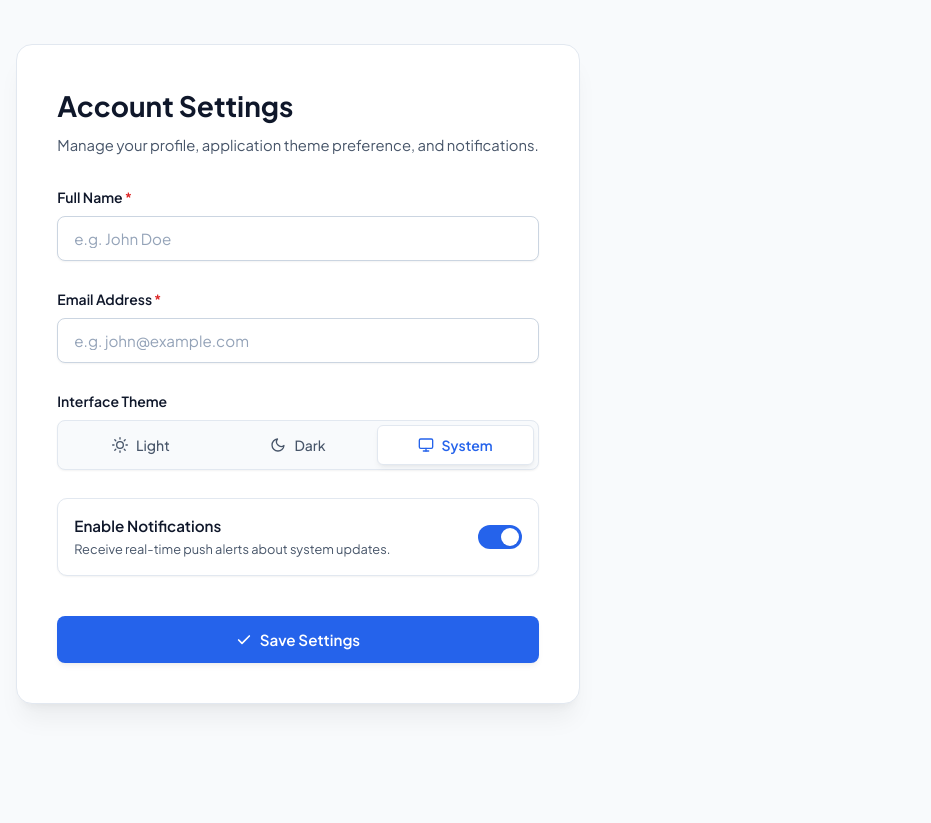
SettingsForm Component › displays validation errors when fields are empty on submit
Click the button "Save Settings" at (298, 640), box 57,616 -> 539,663
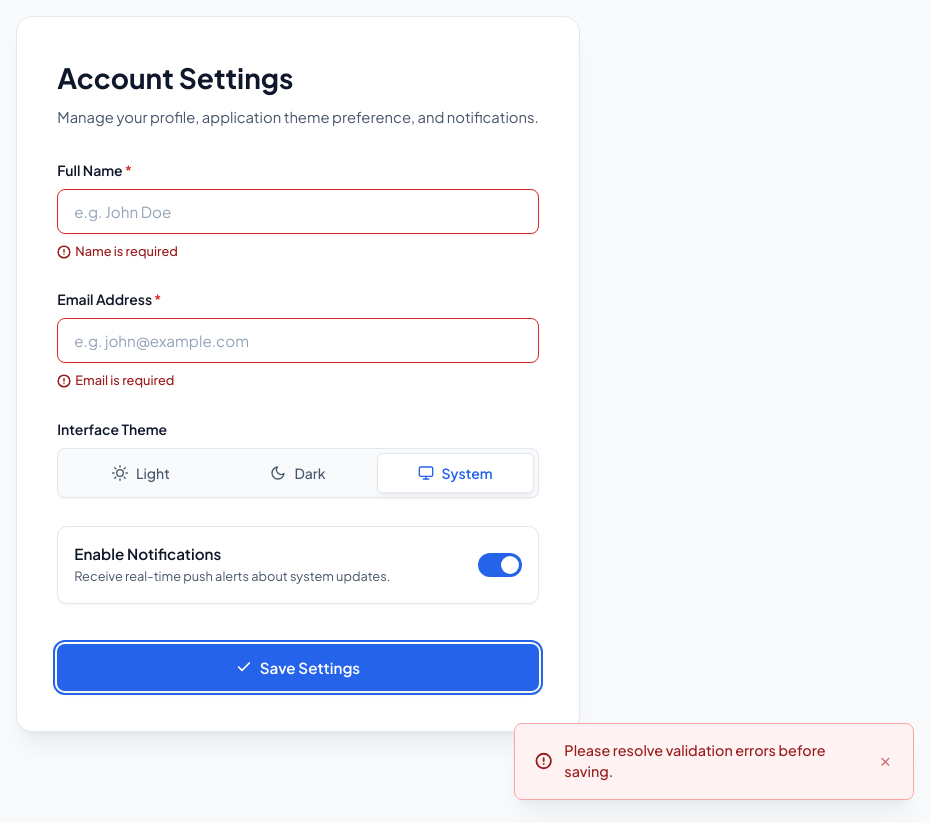
Result: the text "Name is required" is shown at 57,243 -> 178,259
Result: the text "Email is required" is shown at 57,372 -> 174,388
